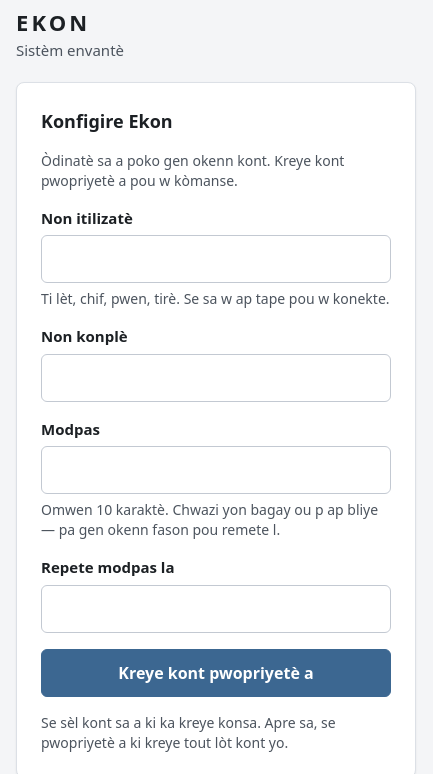
first-run setup › what the form checks before sending anything › refuses a username that is not one
Expected: the heading "Konfigire Ekon" is shown, [41,108,173,132]
Type "Marie Joseph!" into the field labelled "Non itilizatè". click: (216, 259)
box: [41,235,391,283]
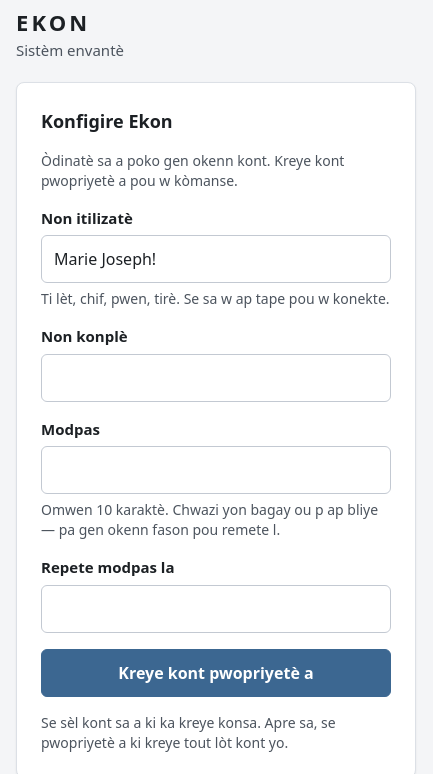
Type "Marie Joseph" into the field labelled "Non konplè". click: (216, 378)
box: [41,354,391,402]
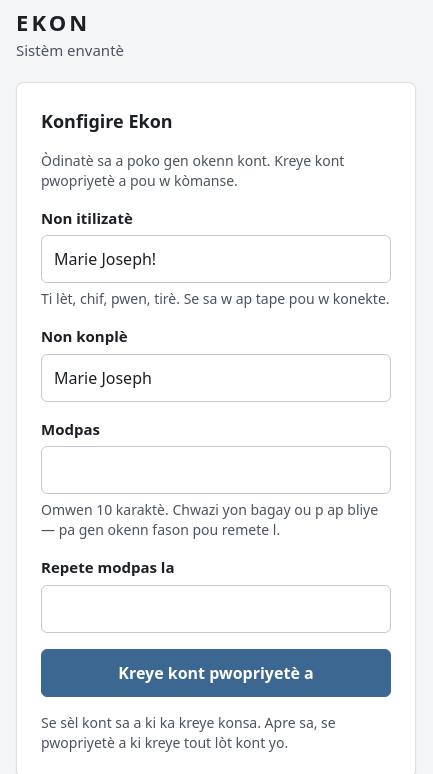
Type "correct horse battery staple" into the password field labelled "Modpas". click: (216, 470)
box: [41,446,391,494]
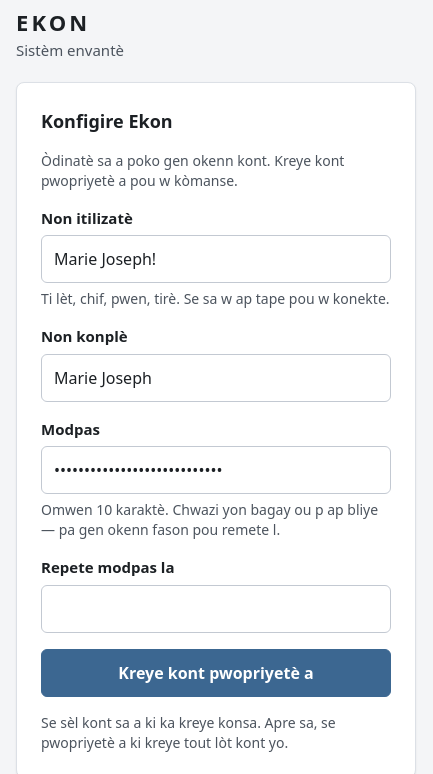
Type "correct horse battery staple" into the password field labelled "Repete modpas la". click: (216, 608)
box: [41,584,391,632]
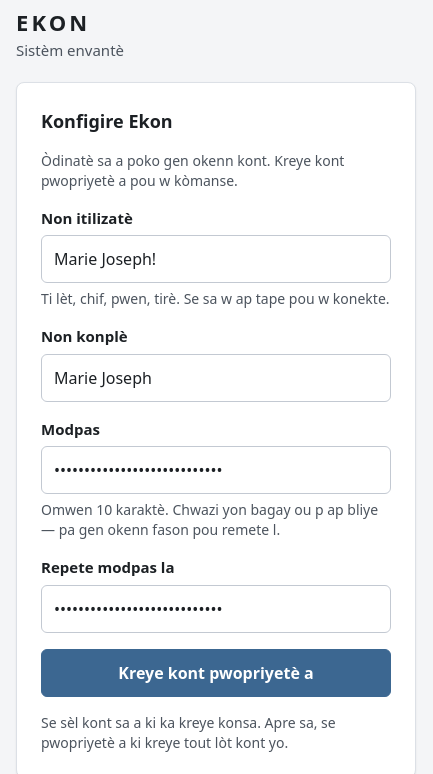
Click the button "Kreye kont pwopriyetè a". click: (216, 672)
box: [41,648,391,696]
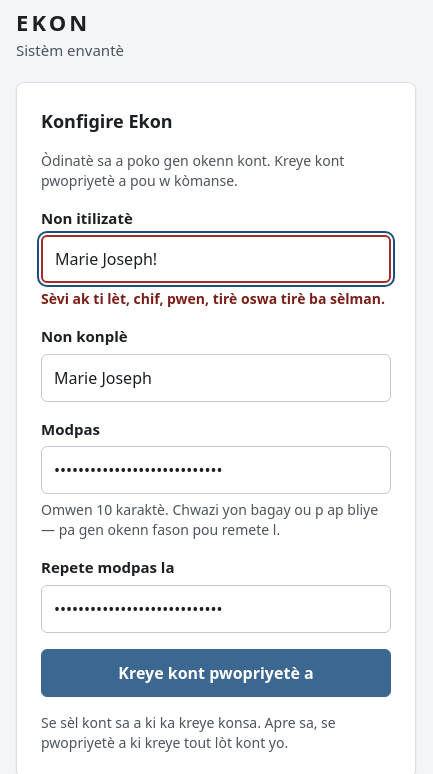
Now the text "Sèvi ak ti lèt, chif, pwen, tirè oswa tirè ba sèlman." is shown, box [41,289,391,309]
